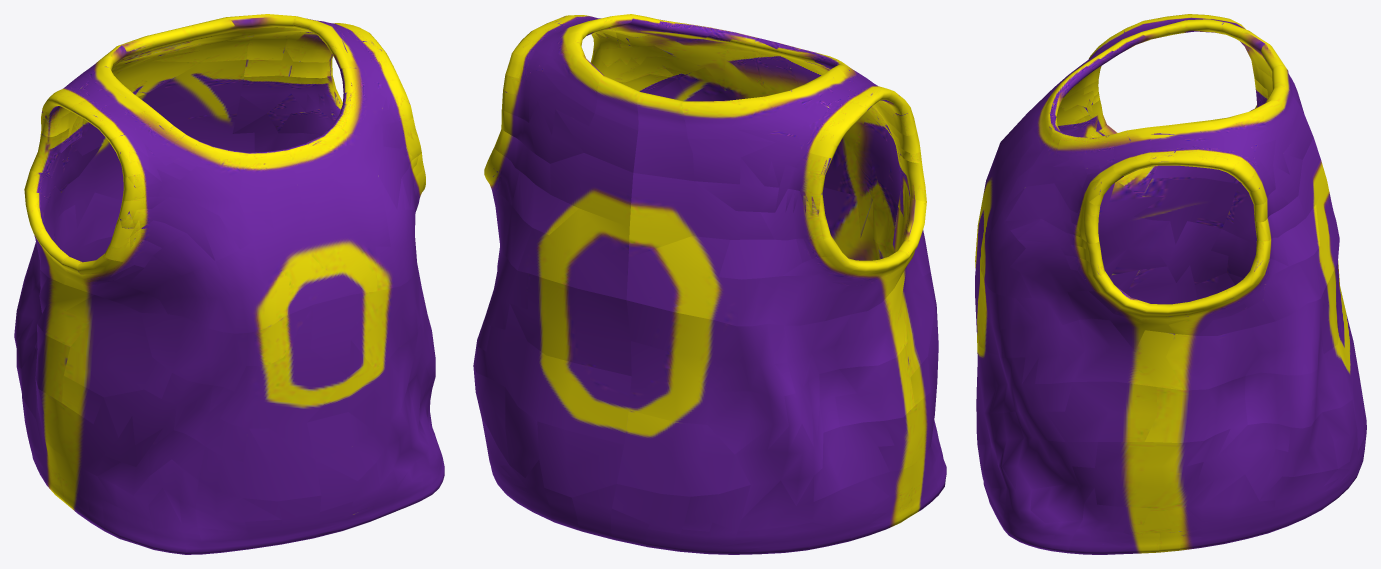
The model's file is Warmup-Purple-Yellow.glb.
3 views of the same model, side by side, from view 1: azimuth 30°, elevation 25°; view 2: azimuth 150°, elevation 25°; view 3: azimuth 270°, elevation 25° (orthographic). The views are drawn at different scales.
Visible parts, largest first — view 1: Warmup-Purple-Yellow; view 2: Warmup-Purple-Yellow; view 3: Warmup-Purple-Yellow.
Boxes of the visible parts, x1,y1,x2,y2 form: Warmup-Purple-Yellow: (14, 14, 444, 554); Warmup-Purple-Yellow: (473, 14, 946, 554); Warmup-Purple-Yellow: (975, 14, 1366, 554).
Bounding box in the file's own units: 0.3436 × 0.364 × 0.316.
1 material, 1 textured.
